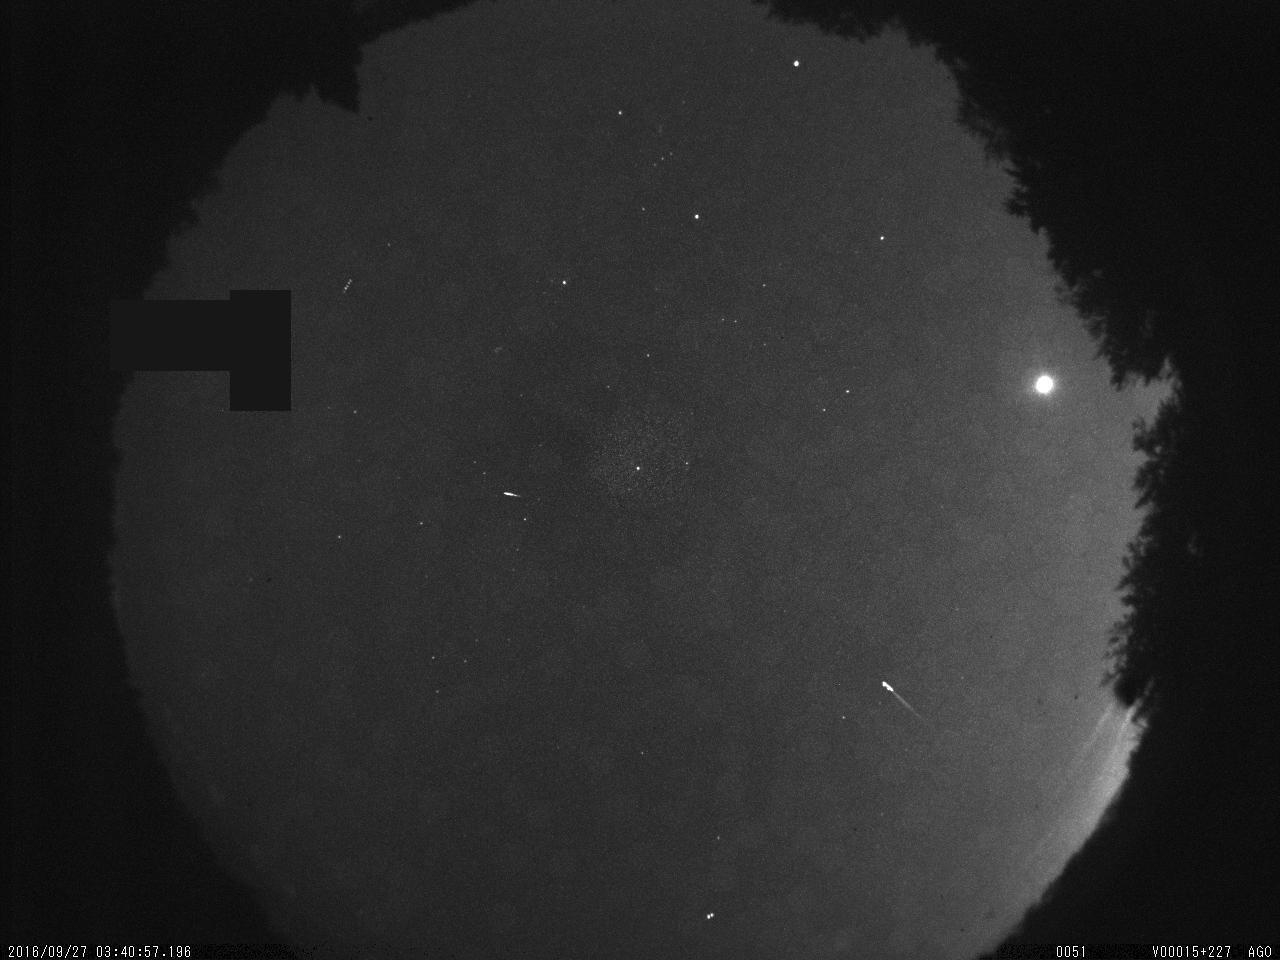meteor: (499, 488, 524, 502)
